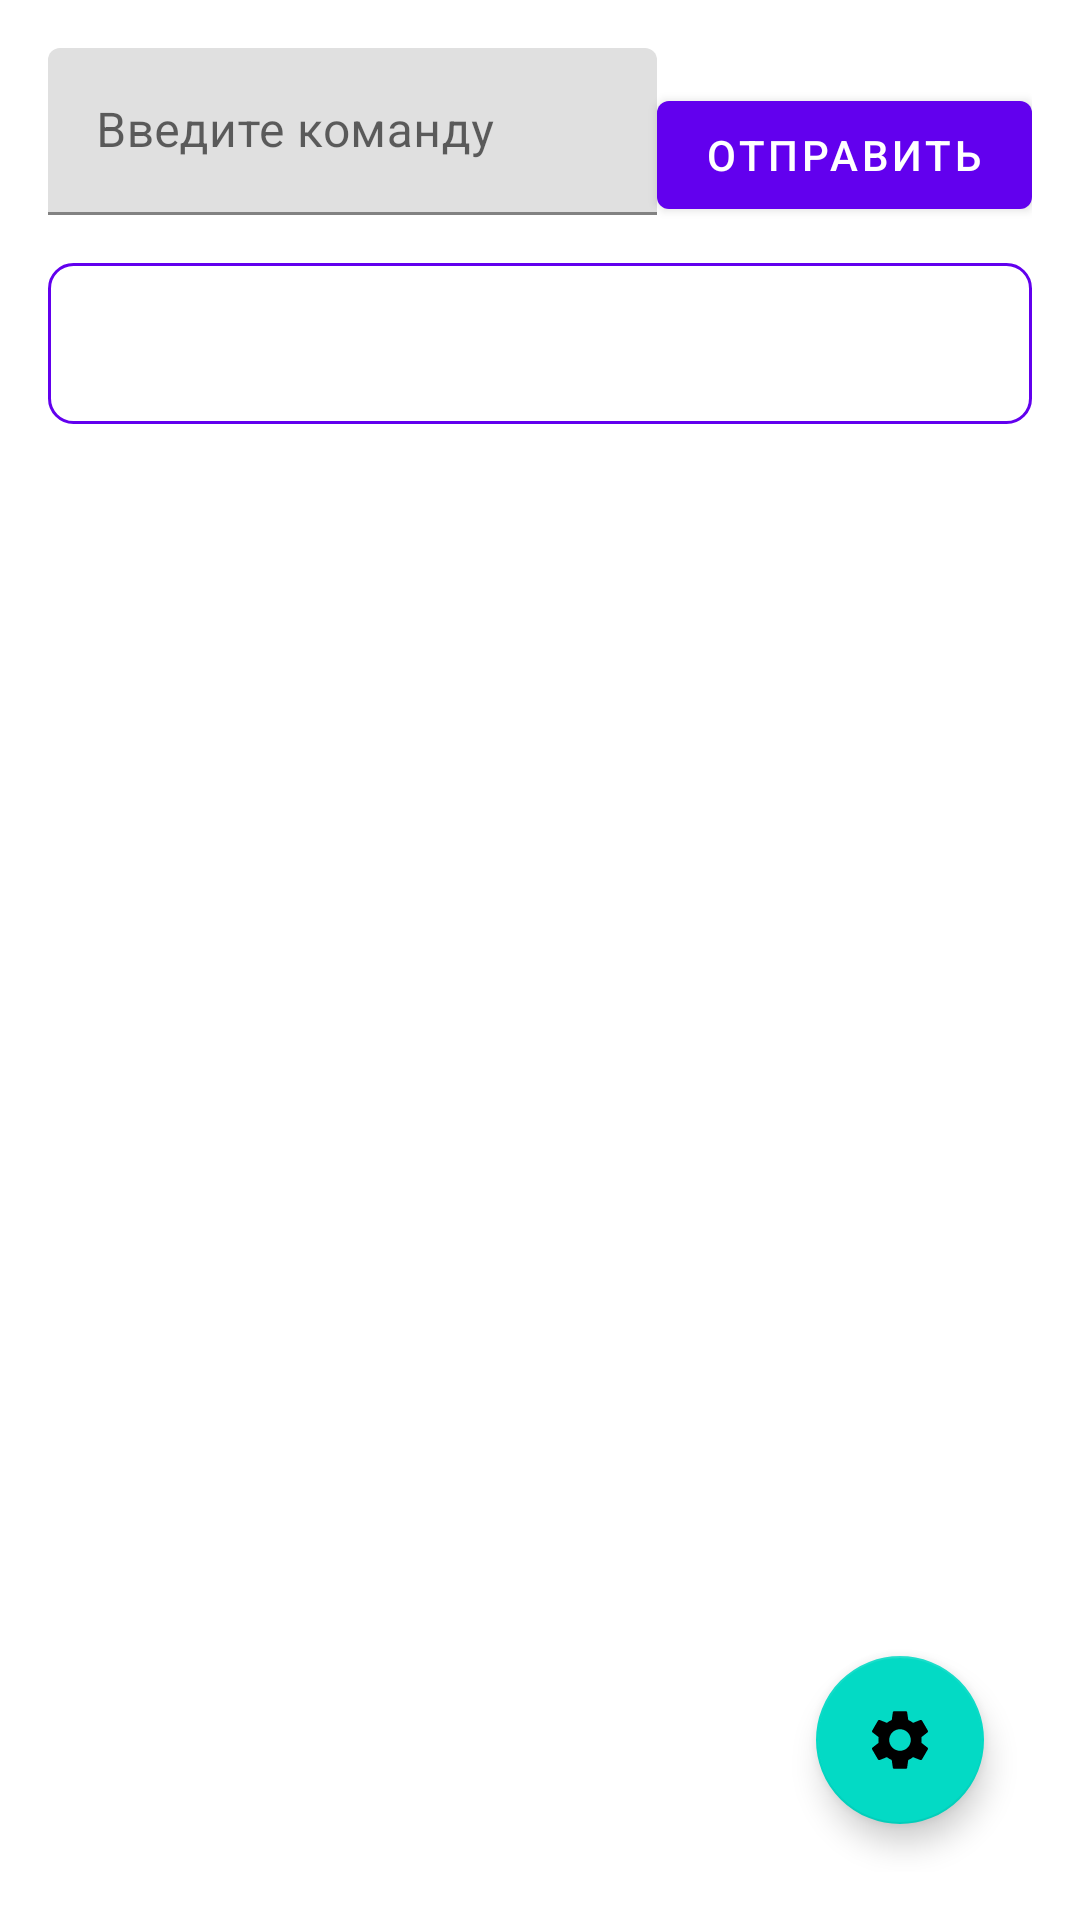

Named icons in this screenshot (1080 x 1920) and their bounding boxes, [x1, y1, x2, y2]:
settings: [816, 1656, 984, 1824]
